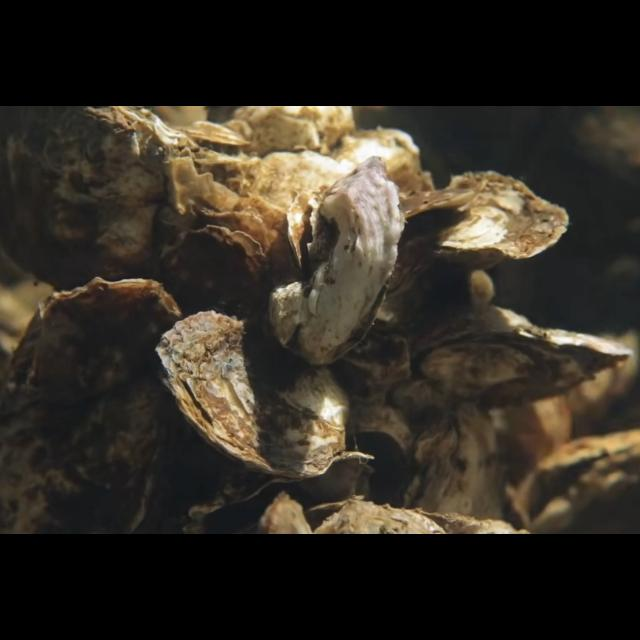Oyster-Closed: (0, 276, 184, 534), (0, 106, 220, 286), (153, 310, 353, 480), (268, 156, 404, 367), (386, 172, 570, 298), (396, 402, 510, 534), (157, 225, 270, 327)
Oyster-Open: (410, 305, 632, 411), (188, 453, 374, 535), (518, 434, 640, 534), (174, 119, 252, 167)
